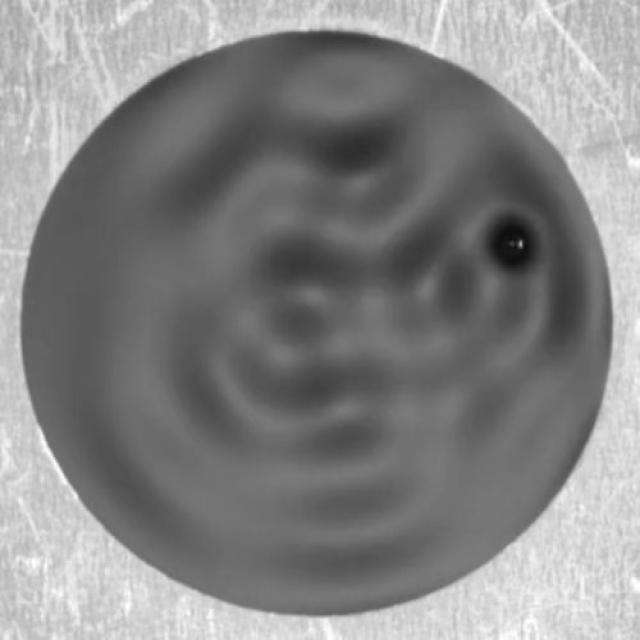droplet: (494, 223, 533, 270)
